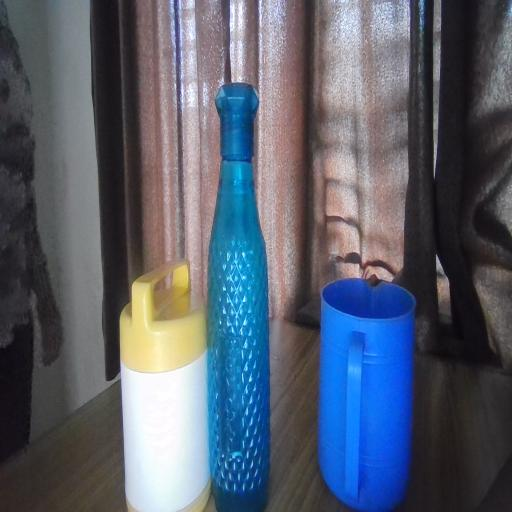Bottle: (211, 64, 288, 512)
